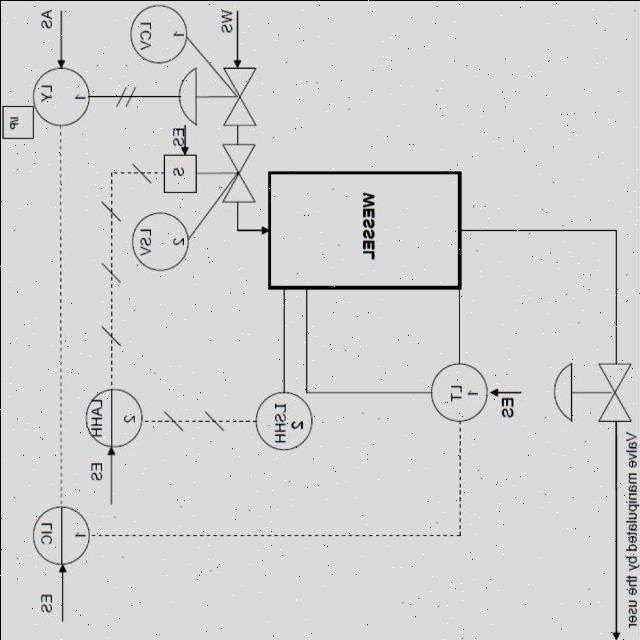Pneumatic-Diaphragm Gate Valve: (548, 348, 640, 431), (180, 64, 262, 130)
Solenoid Operated Gate Valve: (153, 144, 264, 207)
